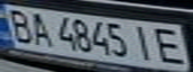4: (51, 13, 75, 51), (87, 18, 109, 56)
5: (106, 20, 133, 58)
8: (69, 17, 93, 54)
A: (24, 10, 54, 47)
B: (3, 7, 36, 44)
E: (151, 25, 193, 65)
I: (127, 23, 160, 62)
